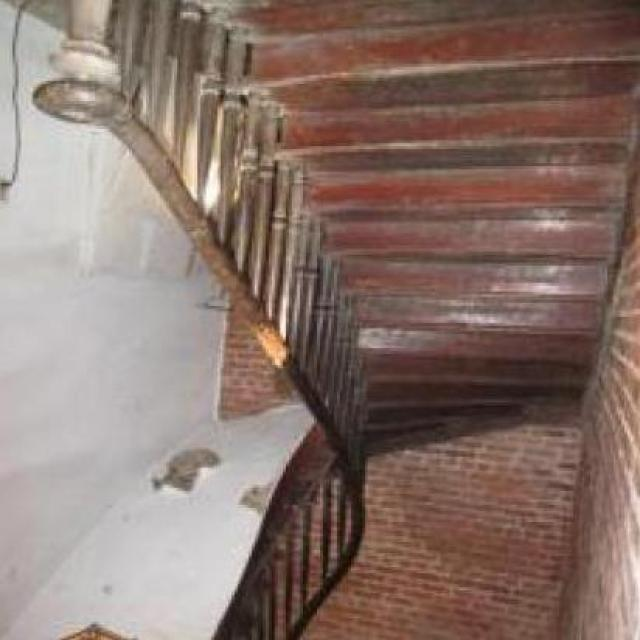Stairs: (118, 0, 640, 446)
